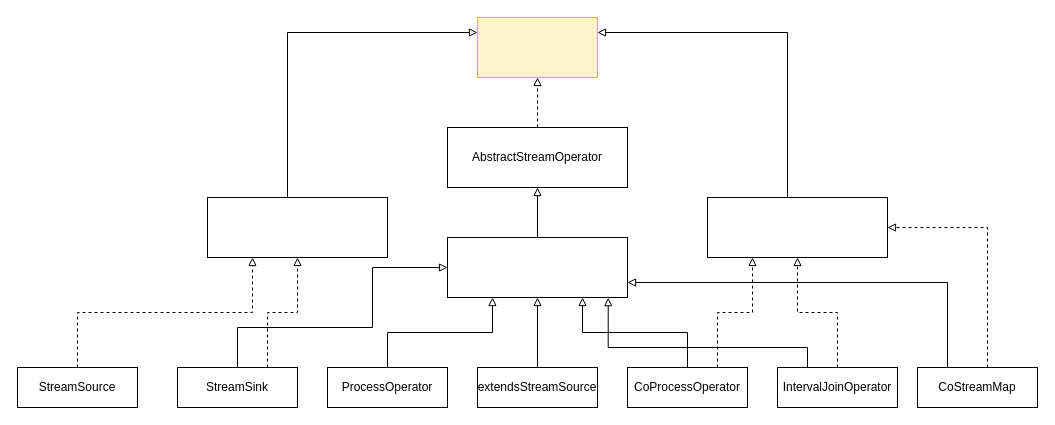
Some shapes in this 1055 by 425 pixel diagram are drawn without their labels. Here are the shapes that lost their labels. From the top down, the centre of each, then its label:
At pixel 537 47: "StreamOperator".
At pixel 297 227: "OneInputStreamOperator".
At pixel 797 227: "TwoInputStreamOperator".
At pixel 537 267: "AbstractUdfStreamOperator".
